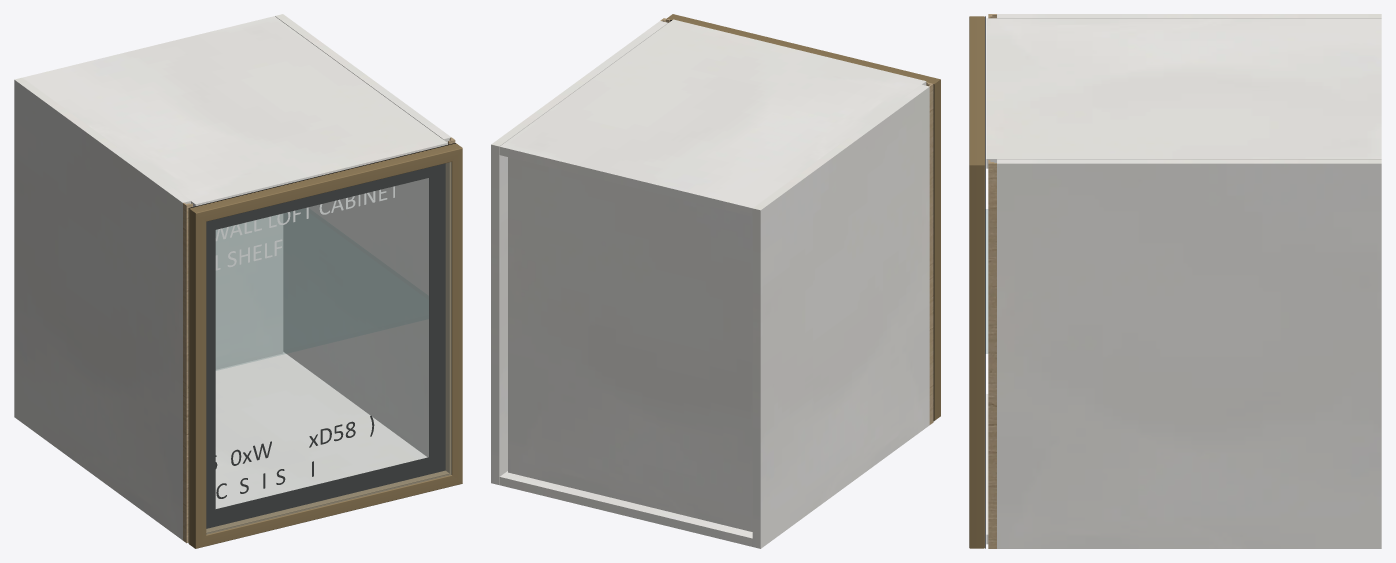
The model's file is LOF-SH-NHX-ST-1SX-RHS-XXX-500-600-560-15.glb.
3 renders of one model, left to right at view 1: azimuth 30°, elevation 25°; view 2: azimuth 150°, elevation 25°; view 3: azimuth 270°, elevation 25°, orthographic. The views are drawn at different scales.
Parts seen in each view (by area): view 1: Object_node_4, TP_node_0, TP, TP_node_1, Neon 22 Profile ALU PROF NEON 20 L21XH22.5MM 3MTR S2/405 SEC (×4), TP_node, Object_node_6, TP_node_2, Object_node_8, 2D text_node_1, 2D text_node_0; view 2: TP_node_2, TP_node_0, TP, TP_node_1, Neon 22 Profile ALU PROF NEON 20 L21XH22.5MM 3MTR S2/405 SEC (×2), TP_node, Object_node_8, Object_node_6; view 3: TP_node_1, TP, Neon 22 Profile ALU PROF NEON 20 L21XH22.5MM 3MTR S2/405 SEC (×2), Object_node_14, TP_node_0, Object_node_6.
Boxes of the visible parts, <box> form: Object_node_4: <box>206,162,451,534</box>; TP_node_0: <box>14,77,190,540</box>; TP: <box>23,16,447,206</box>; TP_node_1: <box>275,14,450,457</box>; Neon 22 Profile ALU PROF NEON 20 L21XH22.5MM 3MTR S2/405 SEC (×4): <box>189,143,462,548</box>; TP_node: <box>215,352,427,508</box>; Object_node_6: <box>188,143,455,543</box>; TP_node_2: <box>215,213,283,369</box>; Object_node_8: <box>183,202,192,543</box>; 2D text_node_1: <box>215,186,394,270</box>; 2D text_node_0: <box>215,415,374,468</box>; TP_node_2: <box>508,157,752,531</box>; TP_node_0: <box>752,84,929,548</box>; TP: <box>499,19,926,216</box>; TP_node_1: <box>491,21,667,484</box>; Neon 22 Profile ALU PROF NEON 20 L21XH22.5MM 3MTR S2/405 SEC (×2): <box>667,14,940,420</box>; TP_node: <box>499,471,752,546</box>; Object_node_8: <box>926,82,933,424</box>; Object_node_6: <box>670,20,934,420</box>; TP_node_1: <box>997,159,1381,548</box>; TP: <box>986,18,1381,168</box>; Neon 22 Profile ALU PROF NEON 20 L21XH22.5MM 3MTR S2/405 SEC (×2): <box>969,16,984,548</box>; Object_node_14: <box>988,160,996,548</box>; TP_node_0: <box>997,14,1381,18</box>; Object_node_6: <box>985,16,985,548</box>.
Size of what is drawn, in the model's own units: 0.5 by 0.6 by 0.582.
8 materials, 2 textured.
